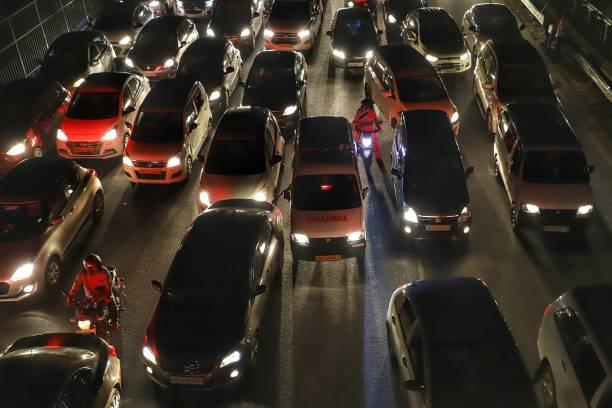AMBULANCE: (298, 120, 363, 273), (305, 202, 348, 233)
